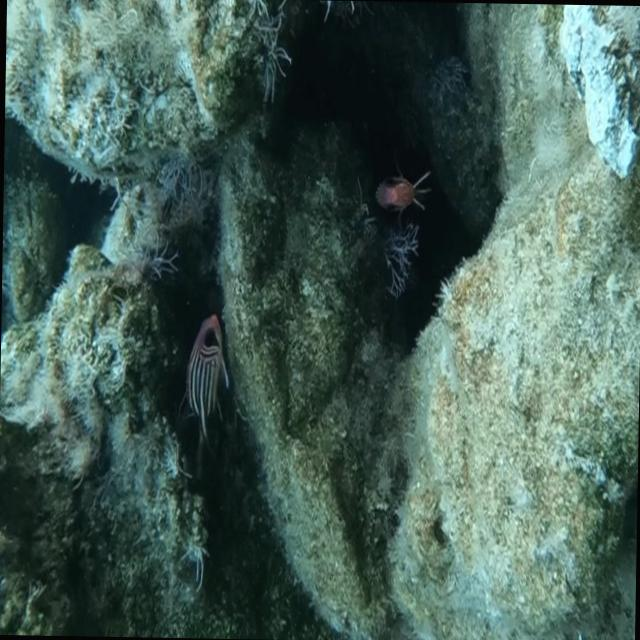Asker Baligi: (178, 310, 230, 448)
